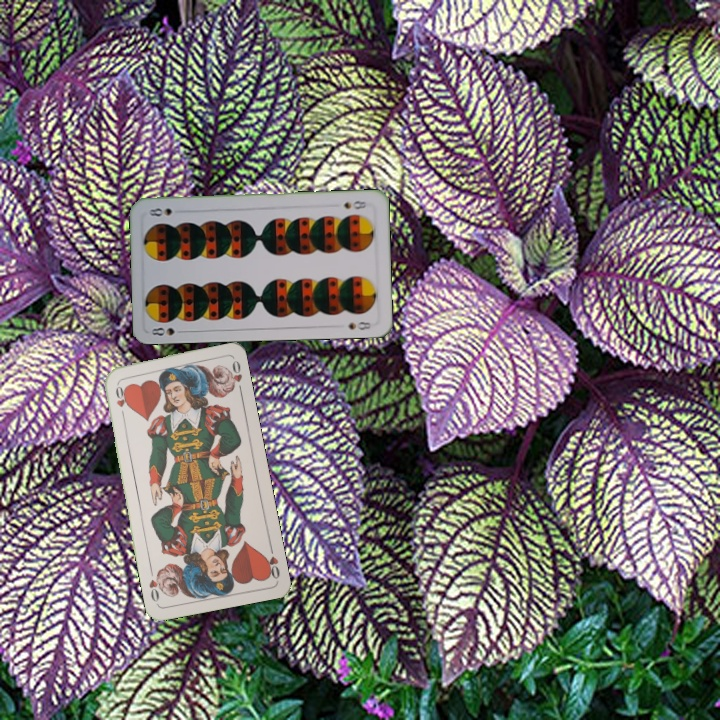HO: (261, 542, 282, 582), (111, 379, 128, 420)
S8: (147, 323, 188, 338), (340, 197, 370, 212)
